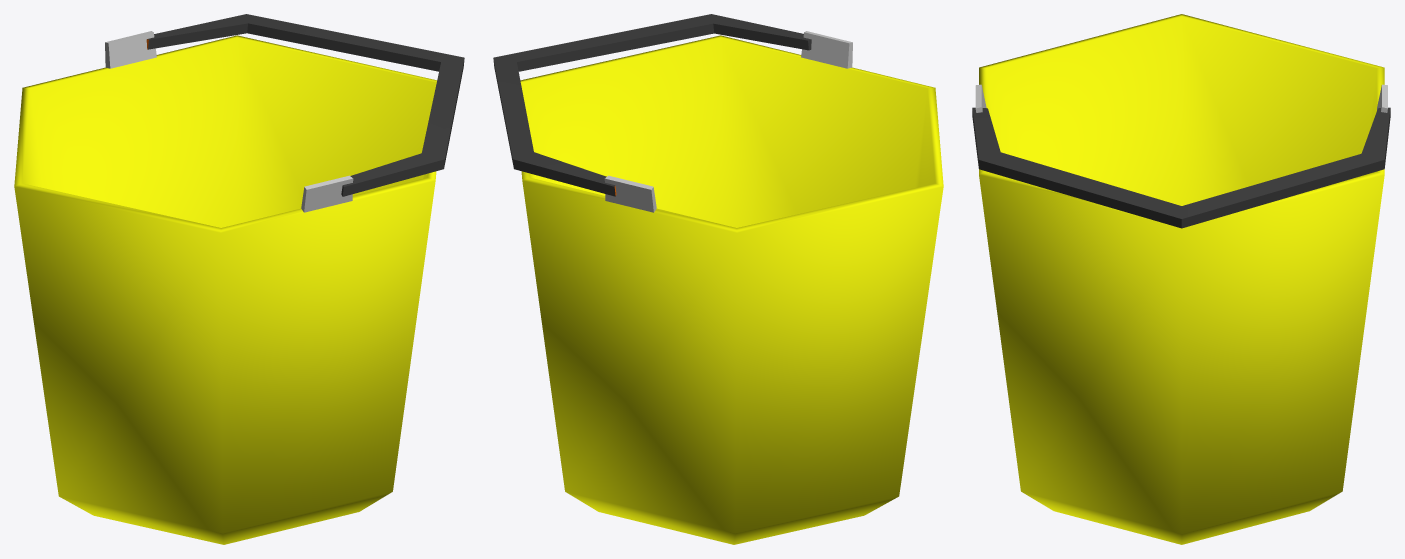
File: Bucket_E.FBX
3 renders of one model, left to right at view 1: azimuth 30°, elevation 25°; view 2: azimuth 150°, elevation 25°; view 3: azimuth 270°, elevation 25°, orthographic. The views are drawn at different scales.
Visible parts, largest first — view 1: Bucket; view 2: Bucket; view 3: Bucket.
Boxes of the visible parts, <box> form: Bucket: <box>14,14,464,544</box>; Bucket: <box>493,14,943,544</box>; Bucket: <box>972,14,1390,544</box>.
Size of the model in its own units: 81.17 by 64.26 by 63.84.
